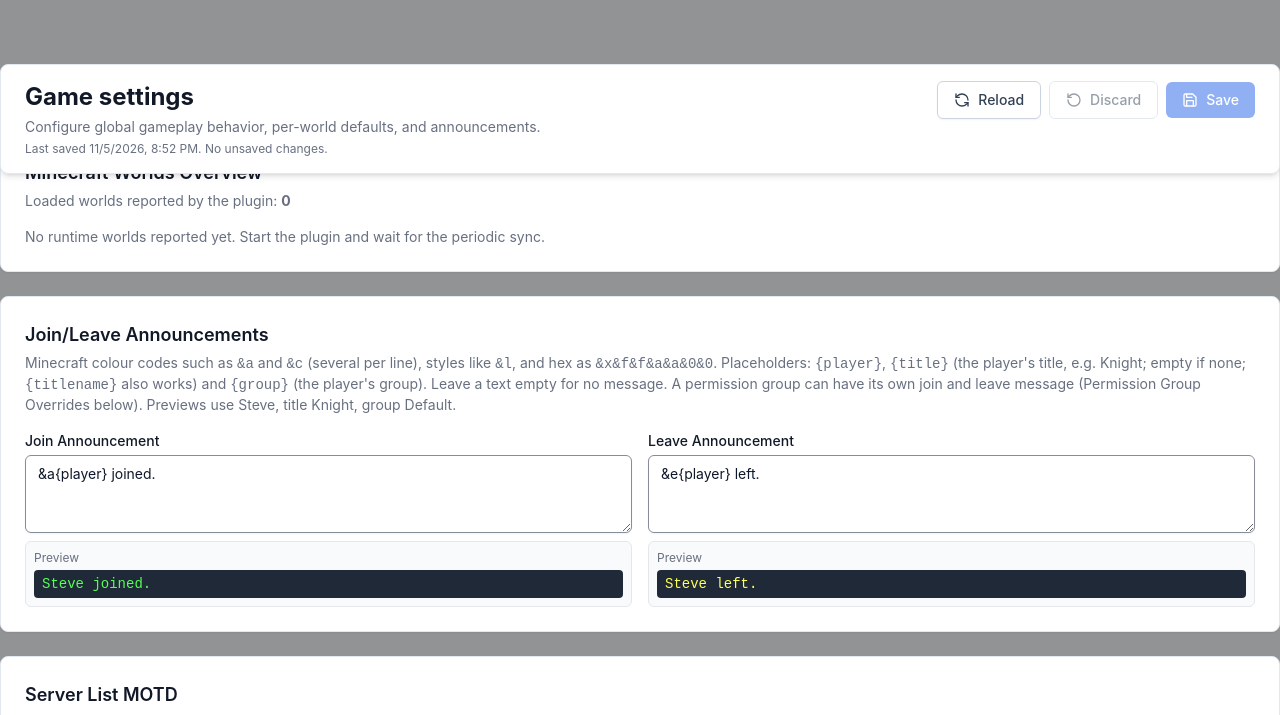
Scenario: GameSettingsPage on the SettingsPage shell (#187, SET-4) › counts a change, saves it with a toast and is clean again
Expected: the text "No unsaved changes." is shown, 205,141 -> 328,156
Expected: the button "Save" is disabled, 1166,82 -> 1255,118
Type "!" into the text box labelled "Join Announcement".
click(328, 494); type("!")  # box 25,455 -> 632,533
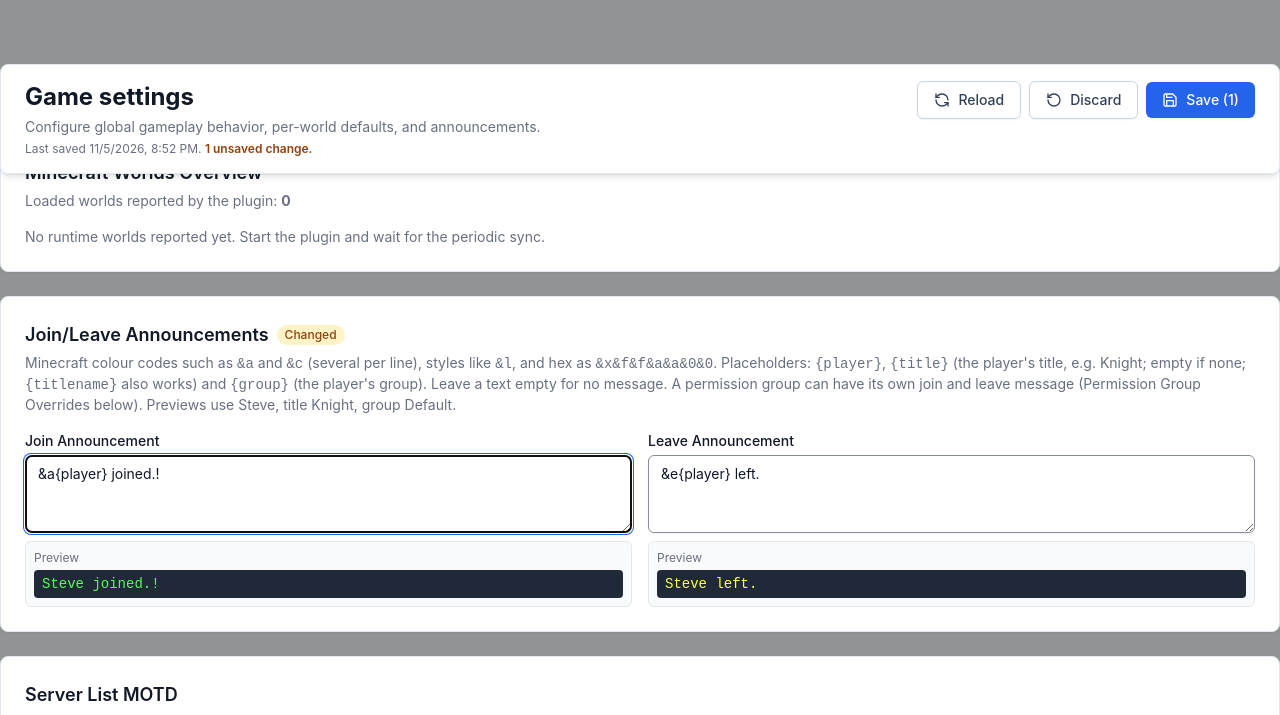
Now the text "1 unsaved change." is shown, box 205,141 -> 312,156
Click the button "Save (1)".
click(1201, 100)  # box 1146,82 -> 1255,118
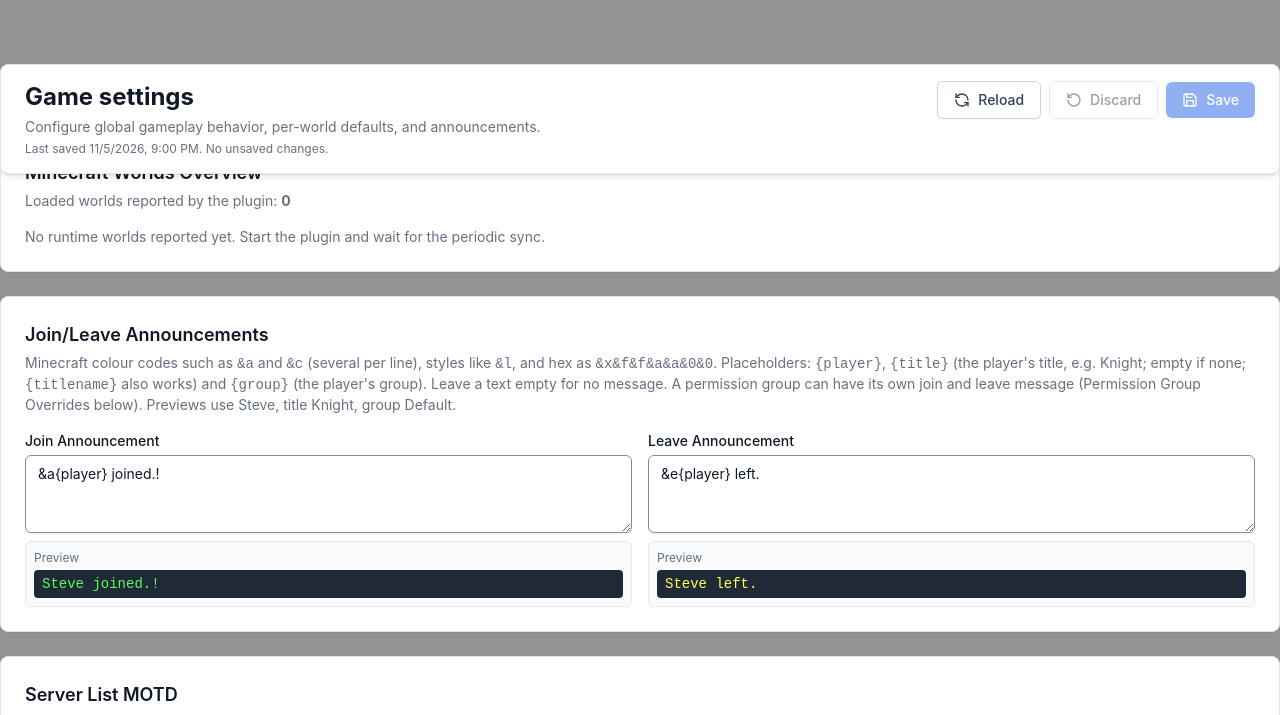
Now the text "No unsaved changes." is shown, box 206,141 -> 328,156
